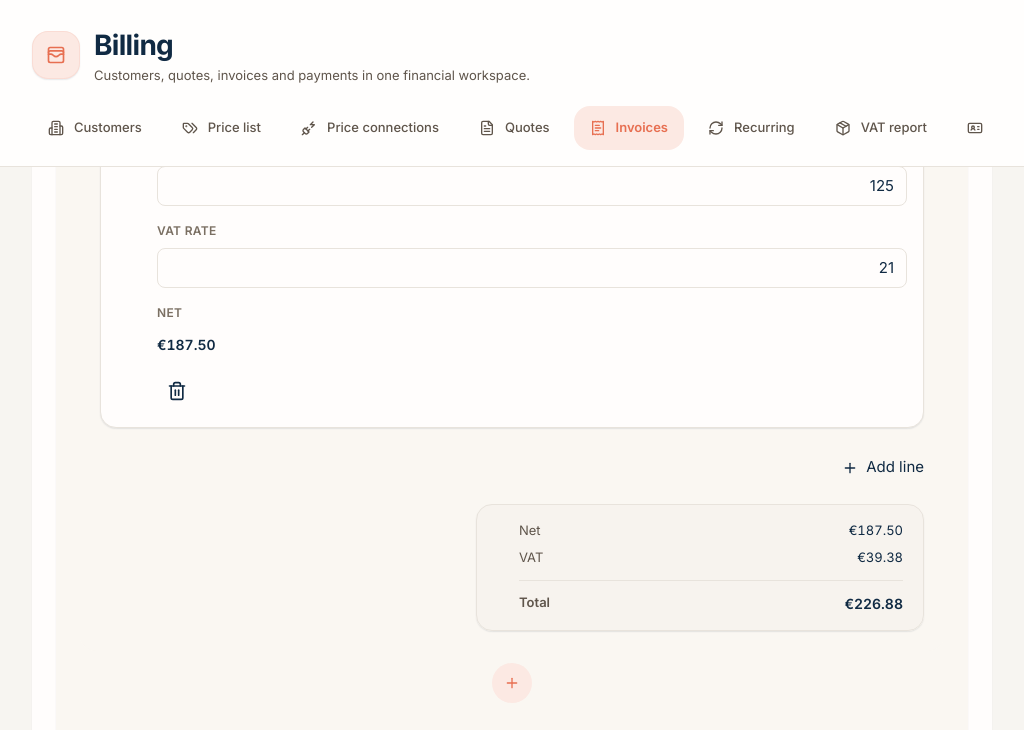
Scenario: the draft editor › a row that is not a line yet stops the save instead of being dropped
(page scrolled)
Check: the text "€226.88" is shown, box [844,592,903,614]
Click the button "Add line".
click(883, 468)  # box [842,448,924,488]
(page scrolled)
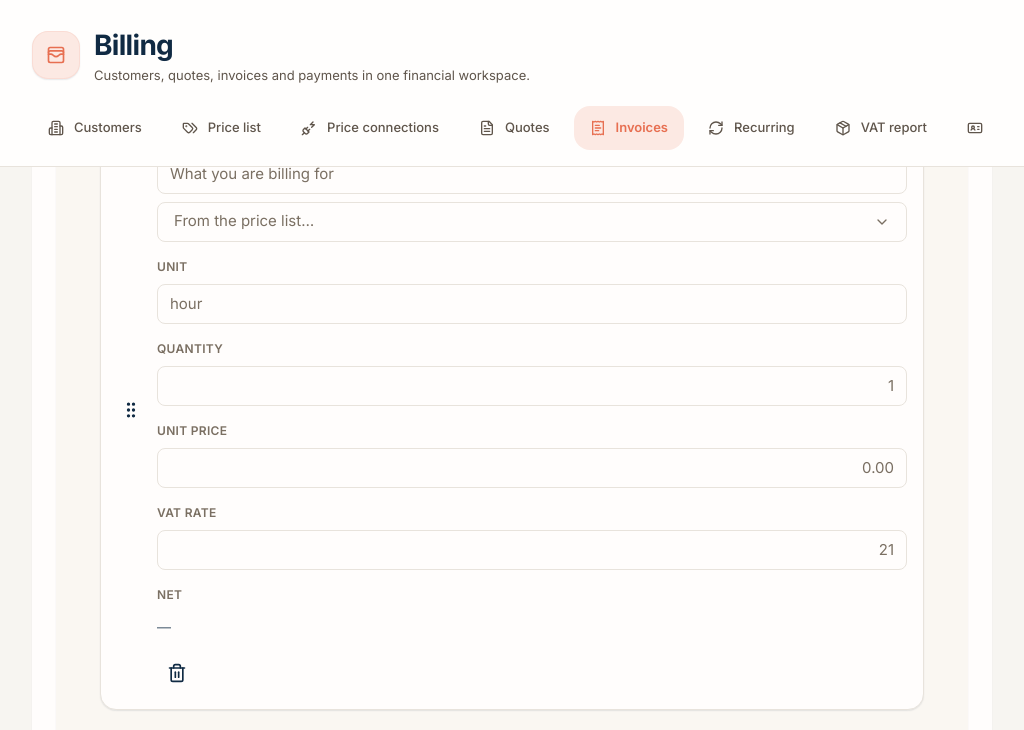
Type "50" into the field labelled "Unit price".
click(532, 468); type("50")  # box [157,448,907,488]
(page scrolled)
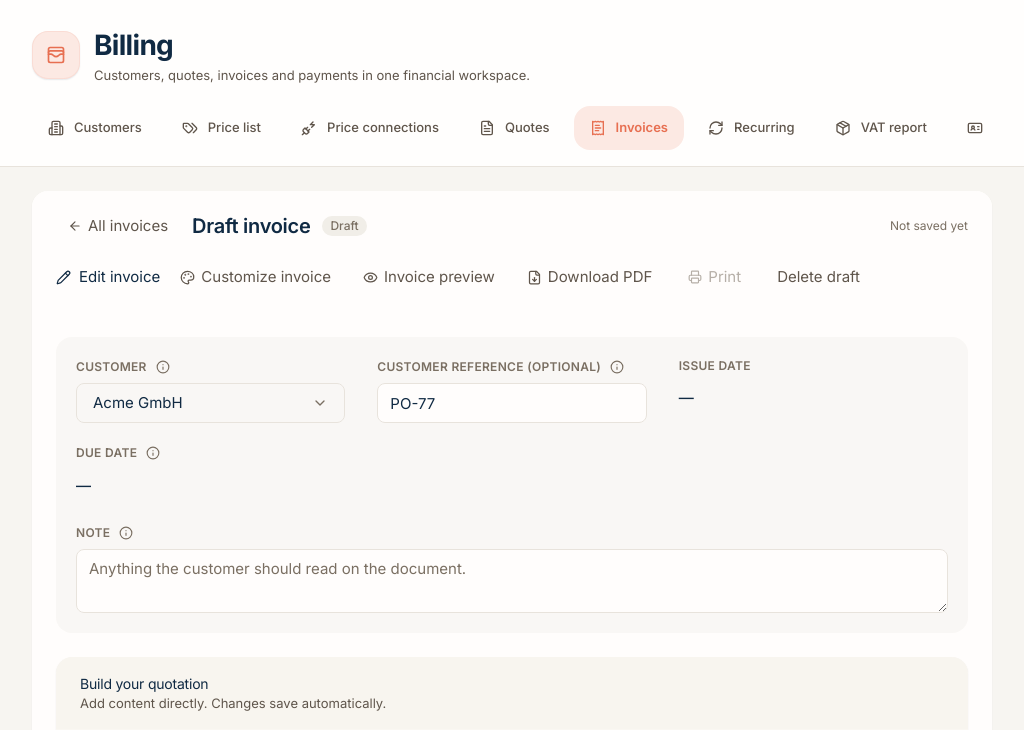
Check: the text "Not saved yet" is shown, box [890,217,968,235]
